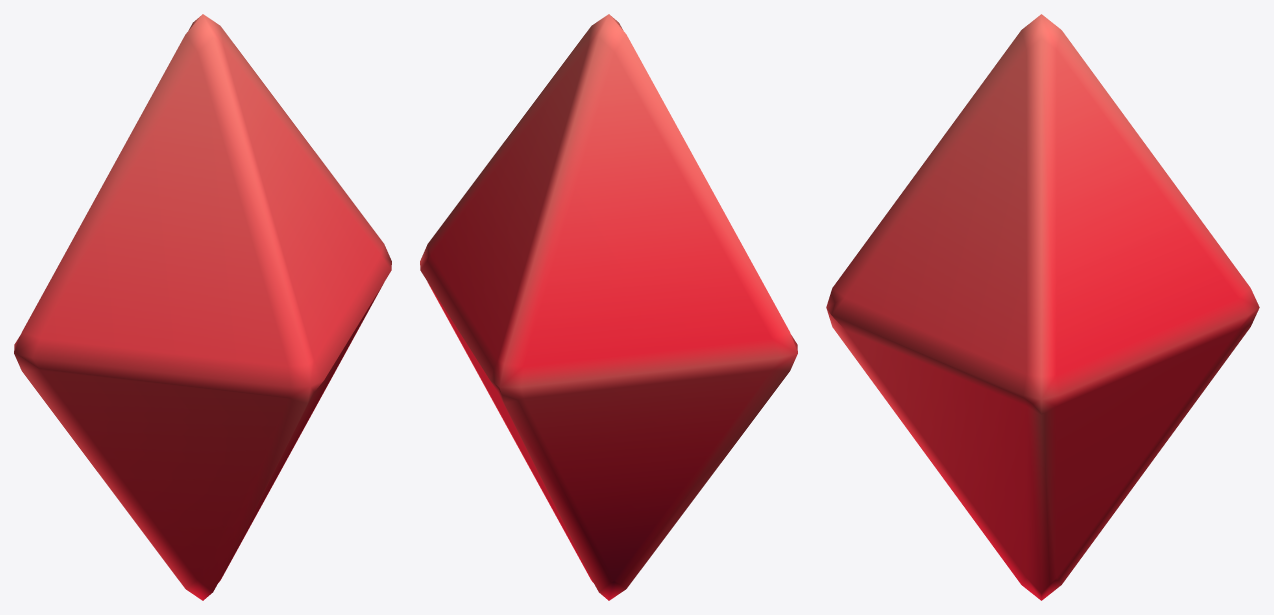
The model's file is SM_gem_002.fbx.
3 renders of one model, left to right at view 1: azimuth 30°, elevation 25°; view 2: azimuth 150°, elevation 25°; view 3: azimuth 270°, elevation 25°, orthographic.
Visible parts, largest first — view 1: SM_gem_002; view 2: SM_gem_002; view 3: SM_gem_002.
Boxes of the visible parts, x1,y1,x2,y2 form: SM_gem_002: (14,14,391,600); SM_gem_002: (420,14,797,600); SM_gem_002: (826,14,1259,600).
Size of the model in its own units: 29.44 by 43.69 by 29.24.
